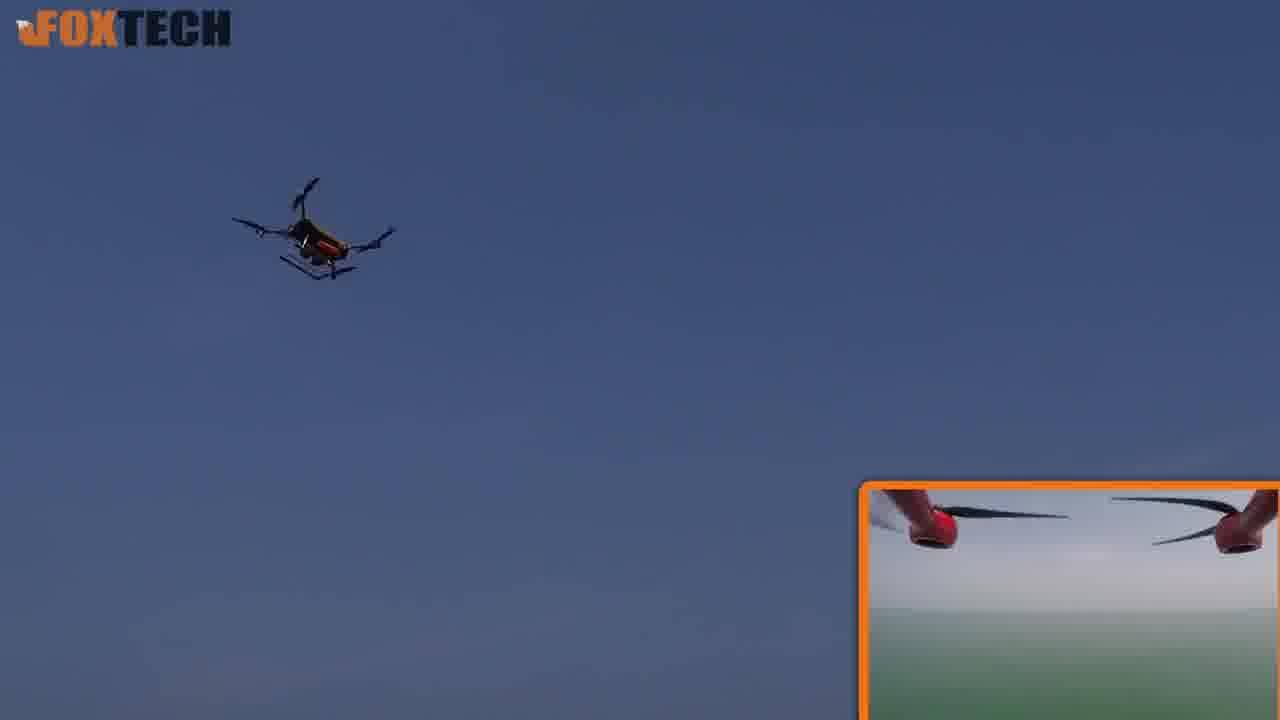drone: (235, 176, 411, 295)
